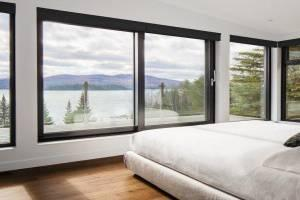window: (35, 6, 267, 140)
